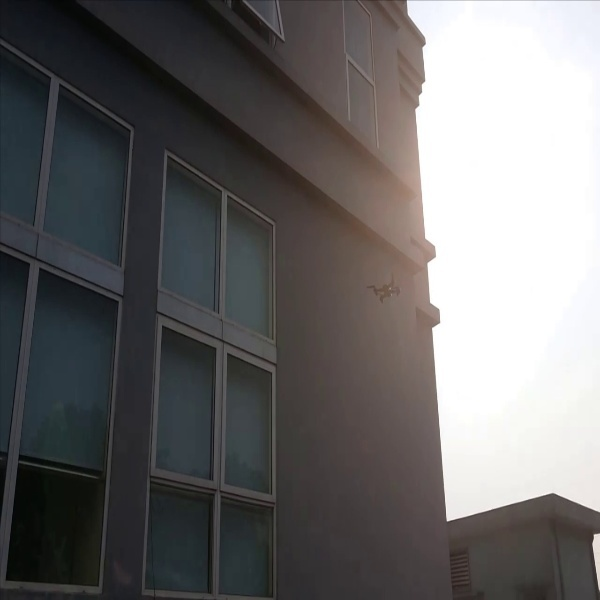drone: (358, 267, 409, 310)
